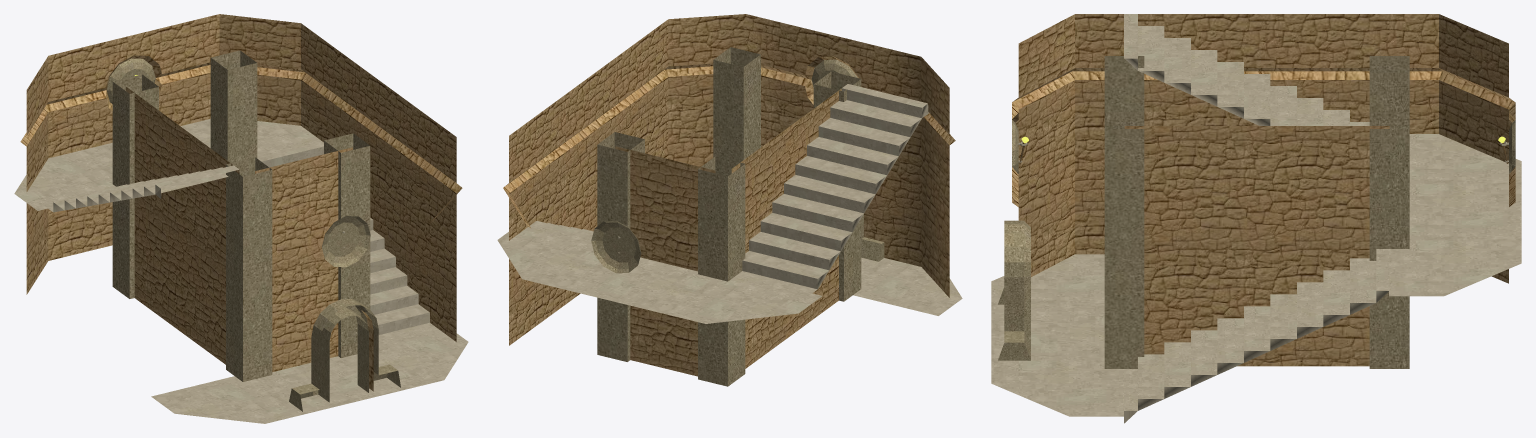
File: LibraryStairs-transformed.glb
3 renders of one model, left to right at view 1: azimuth 30°, elevation 25°; view 2: azimuth 150°, elevation 25°; view 3: azimuth 270°, elevation 25°, orthographic. The views are drawn at different scales.
Visible parts, largest first — view 1: upperwALL, stairs; view 2: upperwALL, stairs; view 3: upperwALL, stairs.
Part boxes in pixels (x1,y1,x2,y2): upperwALL: [20, 14, 462, 411]; stairs: [14, 119, 468, 423]; upperwALL: [503, 14, 955, 386]; stairs: [497, 84, 962, 323]; upperwALL: [998, 14, 1515, 368]; stairs: [991, 14, 1521, 423].
Bounding box in the file's own units: 3 × 2.11 × 4.
6 materials, 5 textured.
